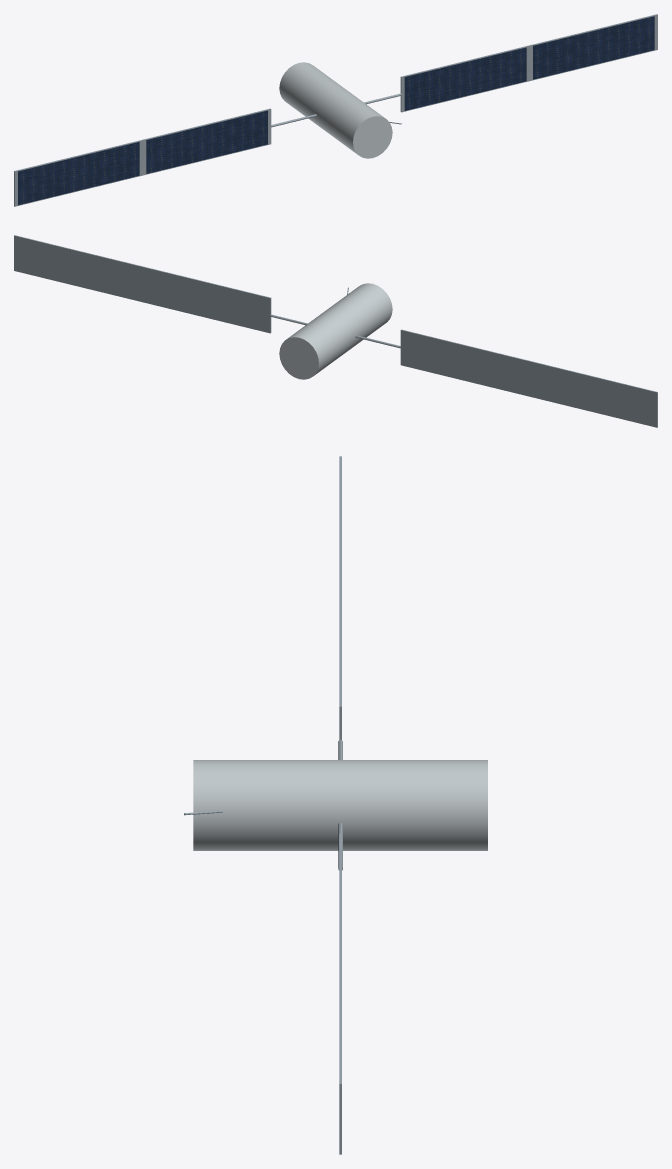
The model's file is ref-tselina-2-15333.glb.
3 views of the same model, one above another, from view 1: azimuth 30°, elevation 25°; view 2: azimuth 150°, elevation 25°; view 3: azimuth 270°, elevation 25° (orthographic). The views are drawn at different scales.
Visible parts, largest first — view 1: Photovoltaic laminates (×4), Spacecraft body, Array frame (×4); view 2: Array frame (×4), Spacecraft body; view 3: Spacecraft body.
Boxes of the visible parts, x1,y1,x2,y2 form: Photovoltaic laminates (×4): (18, 16, 654, 205); Spacecraft body: (279, 62, 392, 158); Array frame (×4): (14, 14, 657, 206); Array frame (×4): (14, 235, 657, 427); Spacecraft body: (279, 283, 392, 379); Spacecraft body: (193, 760, 487, 850).
Size of the model in its own units: 22.7 by 1.4 by 4.64.
Materials: 3 (1 with a texture image).
